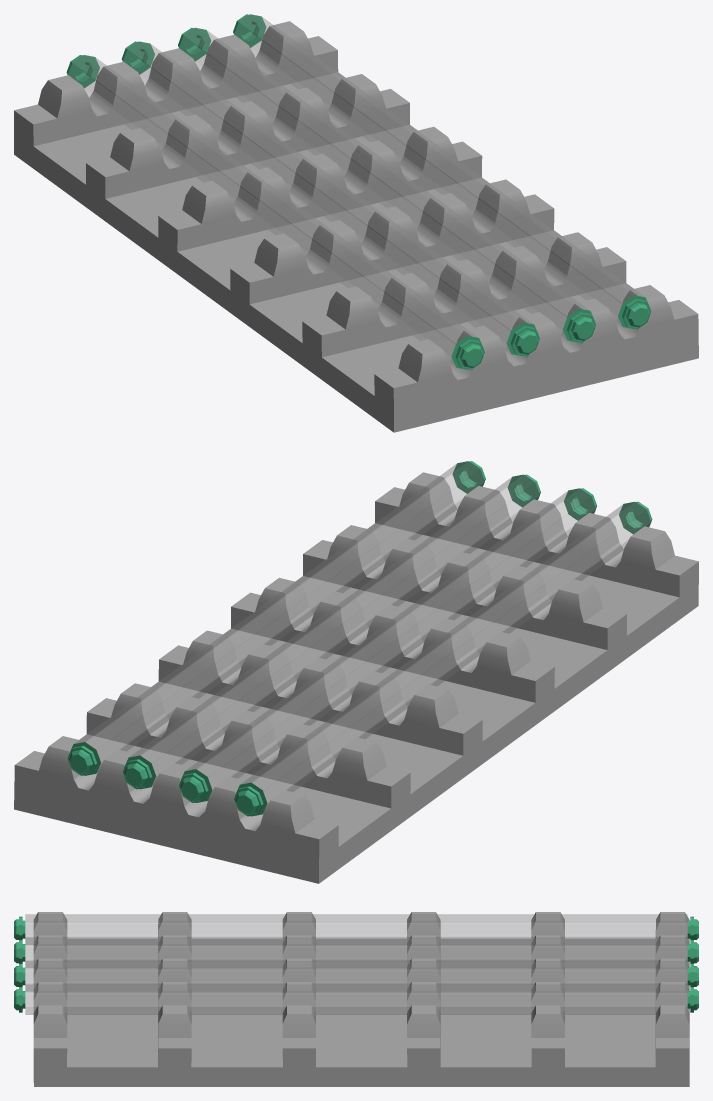
The model's file is light-panel.fbx.
3 views of the same model, one above another, from view 1: azimuth 30°, elevation 25°; view 2: azimuth 150°, elevation 25°; view 3: azimuth 270°, elevation 25° (orthographic). The views are drawn at different scales.
Parts seen in each view (by area): view 1: polySurface92, polySurface101, polySurface100, polySurface103, polySurface102; view 2: polySurface92, polySurface101, polySurface100, polySurface103, polySurface102; view 3: polySurface92, polySurface103, polySurface101, polySurface102, polySurface100.
Boxes of the visible parts, bbox=[...] form: polySurface92: bbox=[14, 21, 698, 432]; polySurface101: bbox=[178, 27, 595, 342]; polySurface100: bbox=[233, 14, 651, 328]; polySurface103: bbox=[66, 55, 484, 369]; polySurface102: bbox=[121, 41, 539, 356]; polySurface92: bbox=[14, 472, 698, 883]; polySurface101: bbox=[122, 474, 540, 789]; polySurface100: bbox=[67, 461, 485, 775]; polySurface103: bbox=[234, 501, 652, 816]; polySurface102: bbox=[179, 488, 596, 802]; polySurface92: bbox=[33, 912, 689, 1086]; polySurface103: bbox=[14, 914, 698, 944]; polySurface101: bbox=[14, 961, 698, 991]; polySurface102: bbox=[14, 938, 698, 967]; polySurface100: bbox=[14, 985, 698, 1014].
Size of the model in its own units: 24.45 by 6.42 by 55.05.
